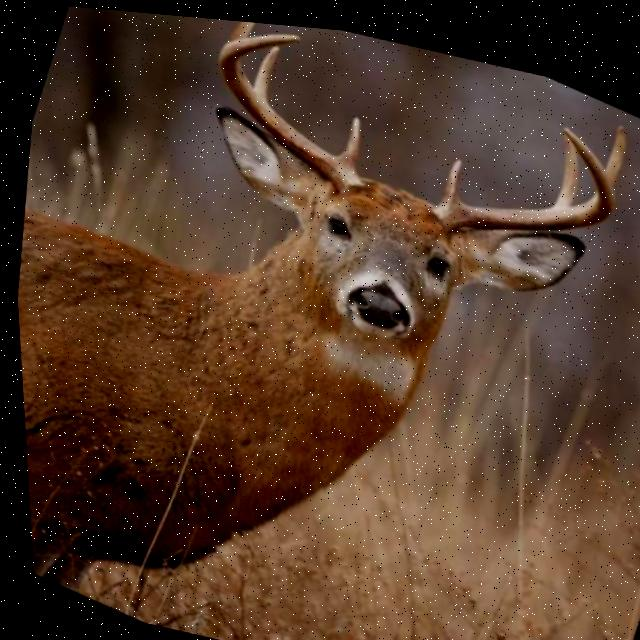L-F: (428, 117, 613, 223)
L-G1: (439, 149, 461, 196)
R-F: (216, 28, 365, 188)
R-G1: (333, 108, 360, 166)
R-G2: (252, 41, 280, 96)
